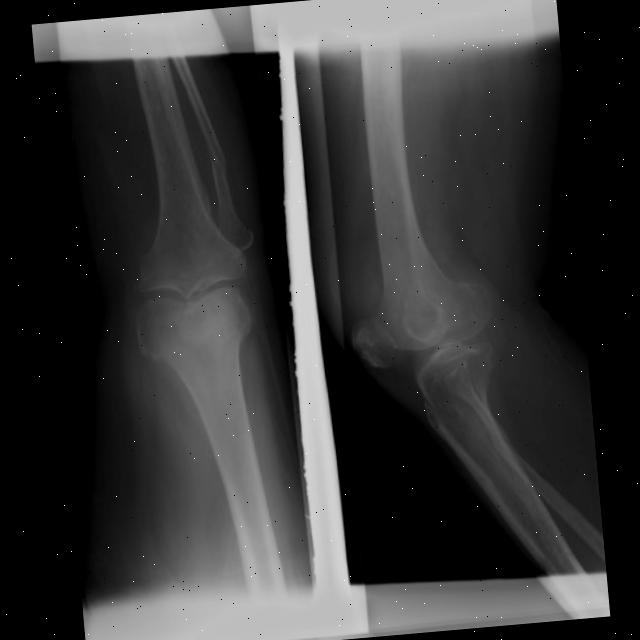fractured: (203, 135, 226, 175), (485, 427, 510, 458)
